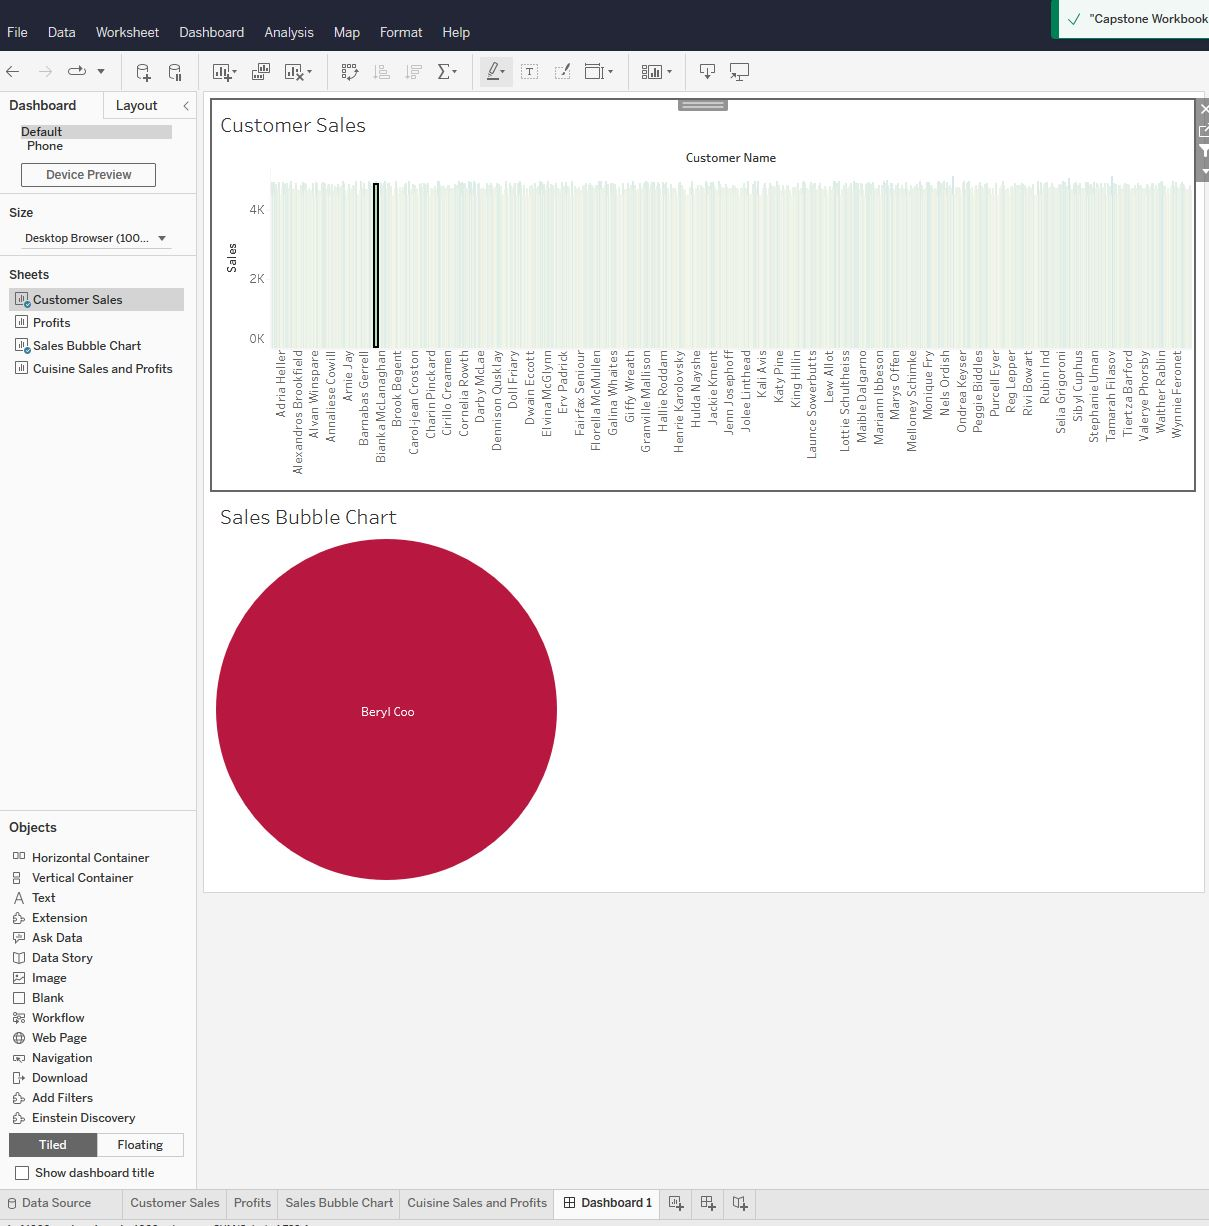

The dashboard page shown, as its layout file describes it:
{"tool":"tableau","page":{"name":"Dashboard 1","canvas":[1000,800],"ordinal":0},"visuals":[{"type":"worksheet","title":"Customer Sales","mark":"Automatic","rows":["Sales"],"cols":["Customer Name"],"box":[8,8,984,392]},{"type":"worksheet","title":"Sales Bubble Chart","mark":"Circle","box":[8,400,984,392]}]}

Visuals, with their boxes on the page's 1000x800 design canvas (x1, y1, x2, y2). These are canvas units, not pixel positions in the 1209x1226 screenshot, which may show the page scaled, cropped or inside an application window:
"Customer Sales" worksheet: x1=8, y1=8, x2=992, y2=400
"Sales Bubble Chart" worksheet (Circle marks): x1=8, y1=400, x2=992, y2=792
